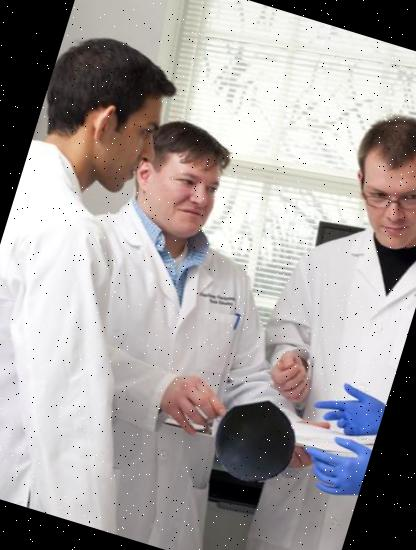Grape: (204, 391, 306, 493)
